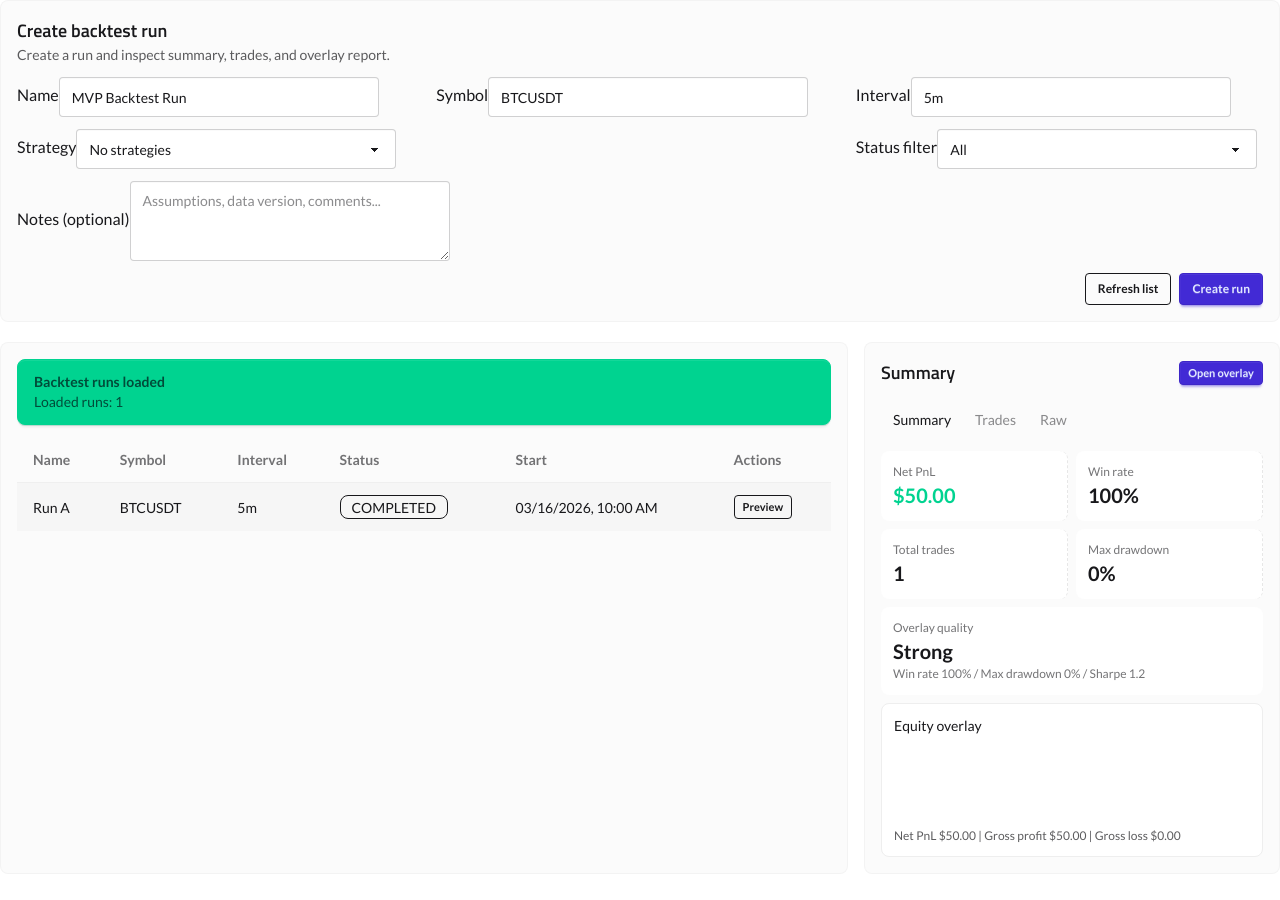
BacktestsList › renders summary and trades for selected run
This screenshot has width=1280, height=900.
Expected: the text "Run A" is shown, [17, 483, 104, 532]
Expected: the text "Net PnL" is shown, [893, 464, 935, 479]
Step 1. Click the button "Trades" → (996, 419), box [963, 399, 1028, 439]
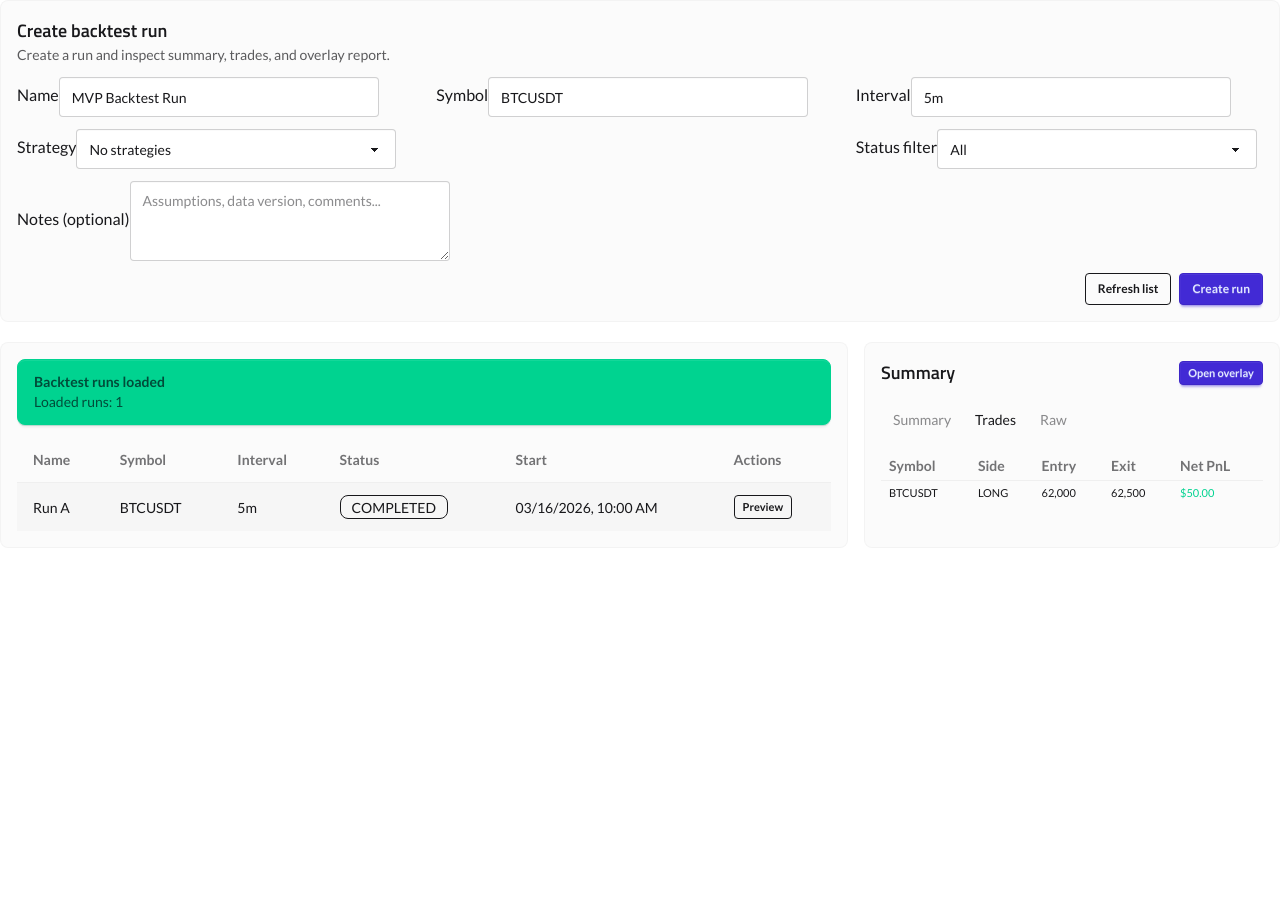
Result: the text "LONG" is shown at [970, 481, 1034, 506]
